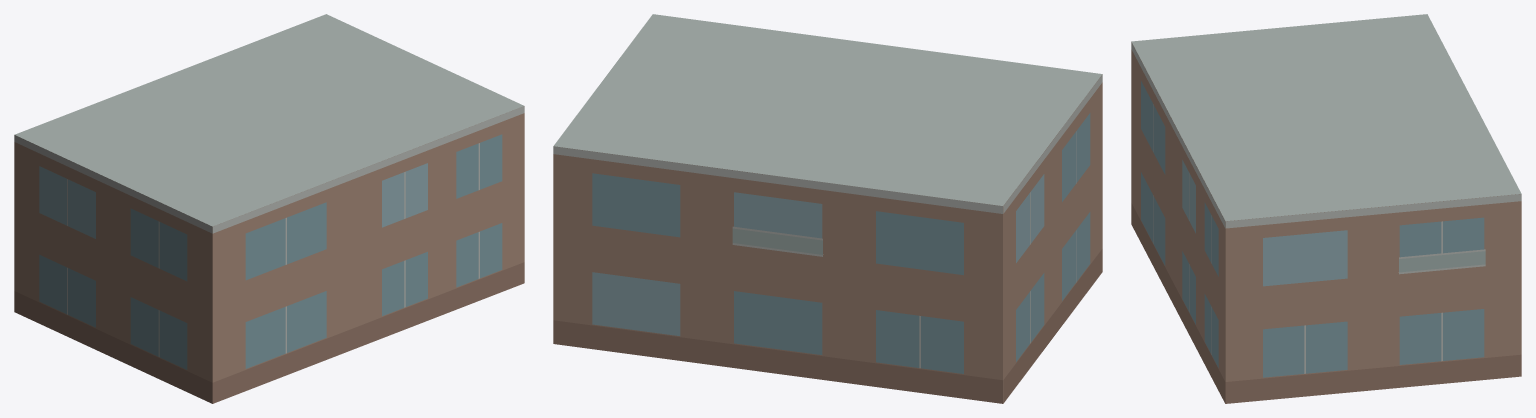
The model's file is survey-upis-32699346.glb.
3 views of the same model, side by side, from view 1: azimuth 30°, elevation 25°; view 2: azimuth 150°, elevation 25°; view 3: azimuth 270°, elevation 25° (orthographic). The views are drawn at different scales.
Visible parts, largest first — view 1: survey-upis-32699346.tmp; view 2: survey-upis-32699346.tmp; view 3: survey-upis-32699346.tmp.
Boxes of the visible parts, left/top/right/bottom form: survey-upis-32699346.tmp: left=14, top=14, right=524, bottom=403; survey-upis-32699346.tmp: left=553, top=14, right=1102, bottom=403; survey-upis-32699346.tmp: left=1131, top=14, right=1521, bottom=403.
Bounding box in the file's own units: 14.85 × 6.1 × 11.83.
